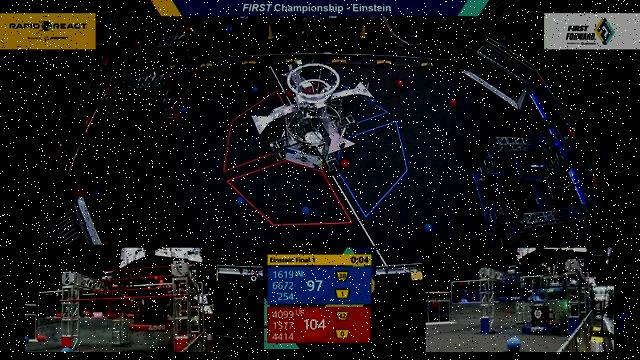Robot: (511, 131, 559, 187), (531, 177, 587, 222), (103, 61, 147, 105), (483, 195, 525, 236), (139, 50, 175, 95)
